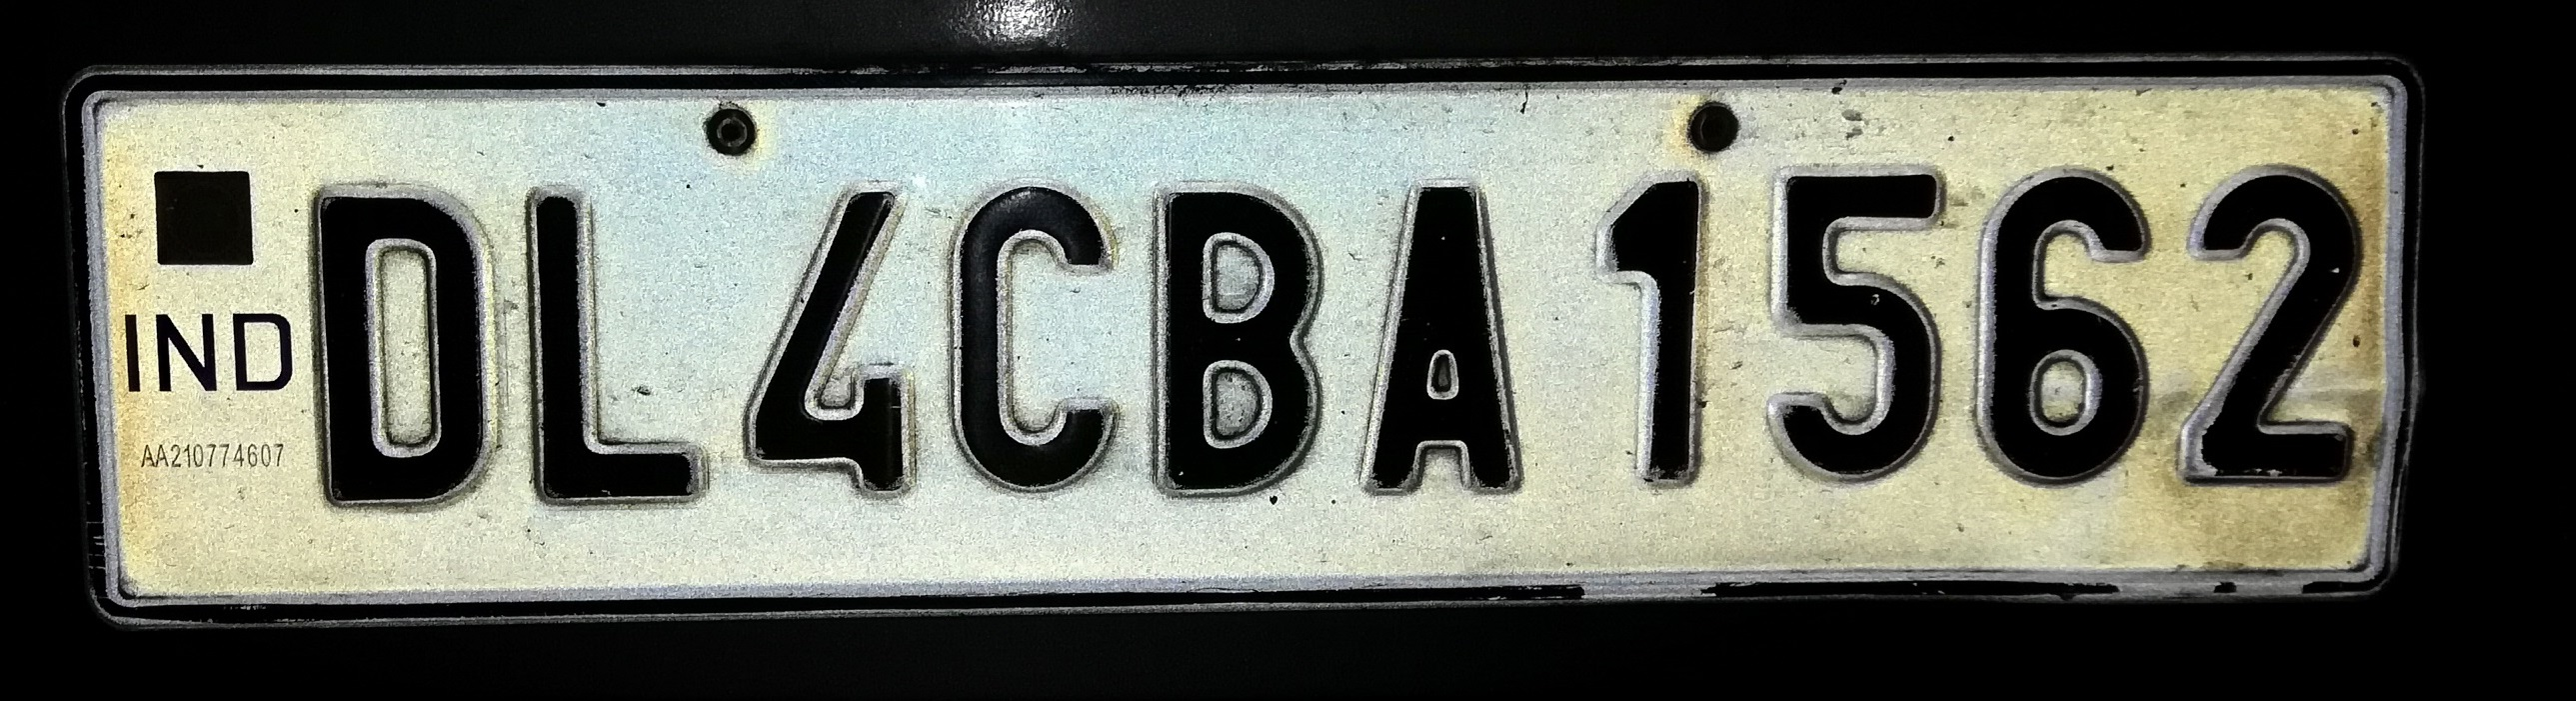numberplate: (55, 54, 2413, 609)
